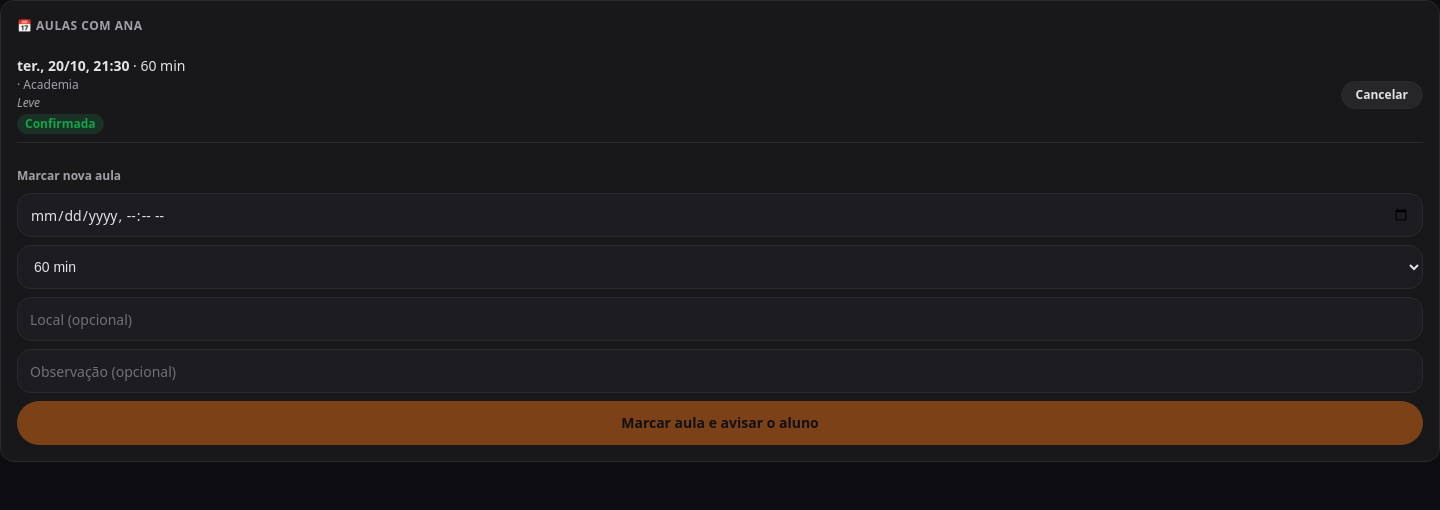
Scenario: ClientAppointments › erro do servidor aparece como mensagem
The image size is (1440, 510).
Check: the text "· Academia" is shown, box [17,76,79,93]
Type "2020-01-01T10:00" into the field named "Data e hora".
click(720, 215); type("2020-01-01T10:00")  # box [17,193,1423,237]
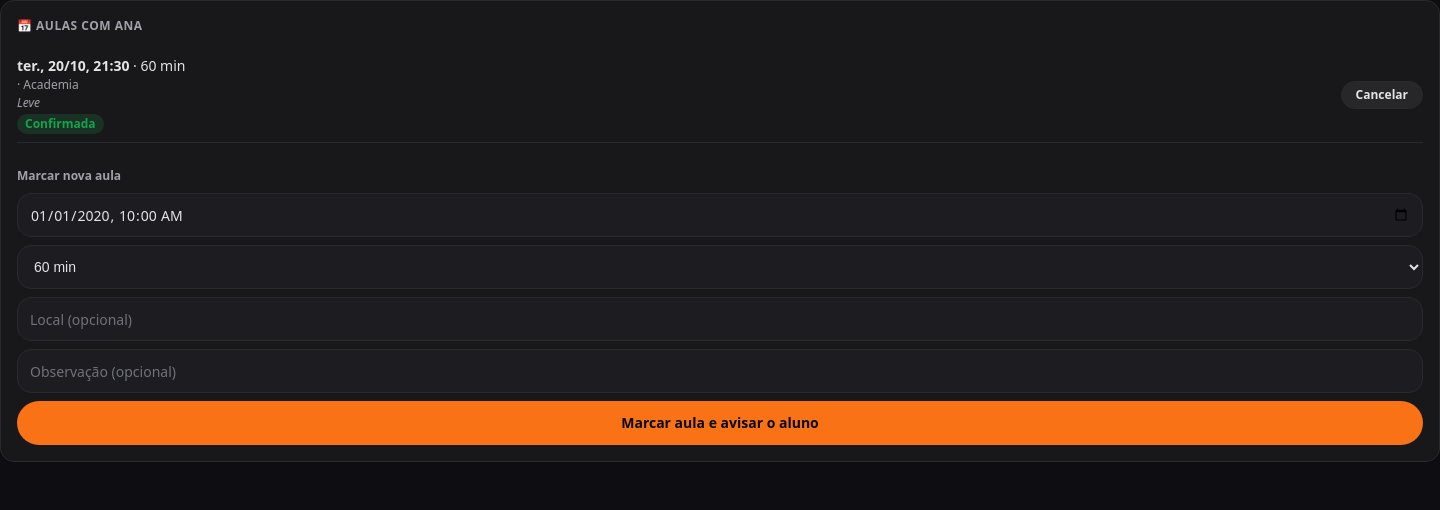
Click the button "Marcar aula e avisar o aluno".
click(720, 423)  # box [17,401,1423,445]
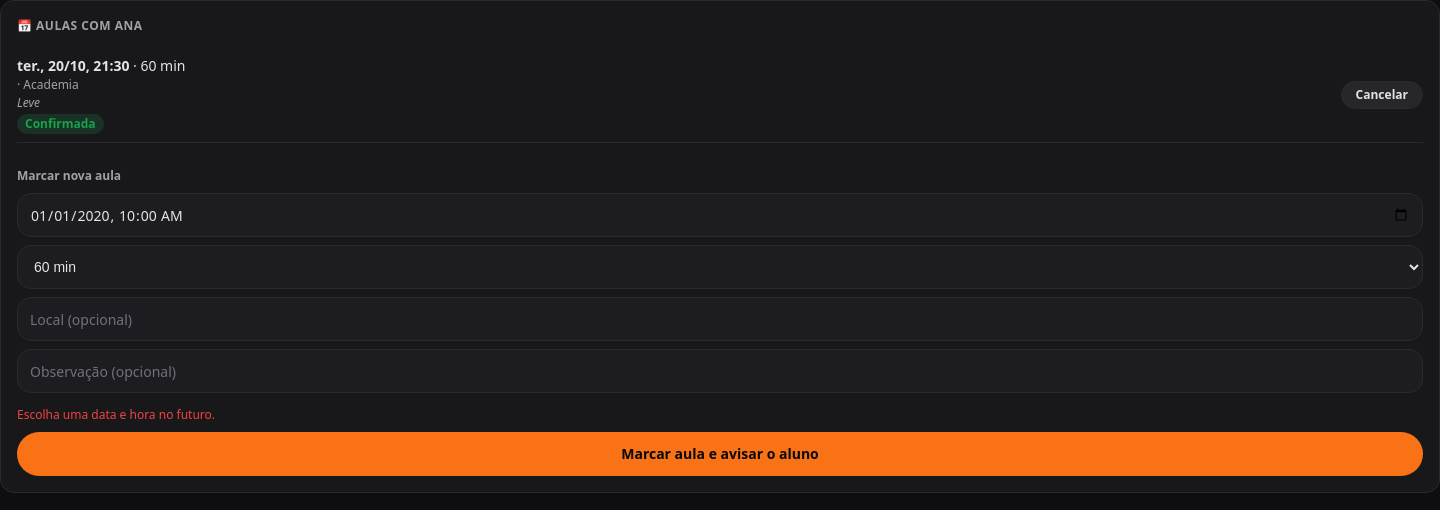
Check: the message shows "no futuro", box [17,406,215,423]
